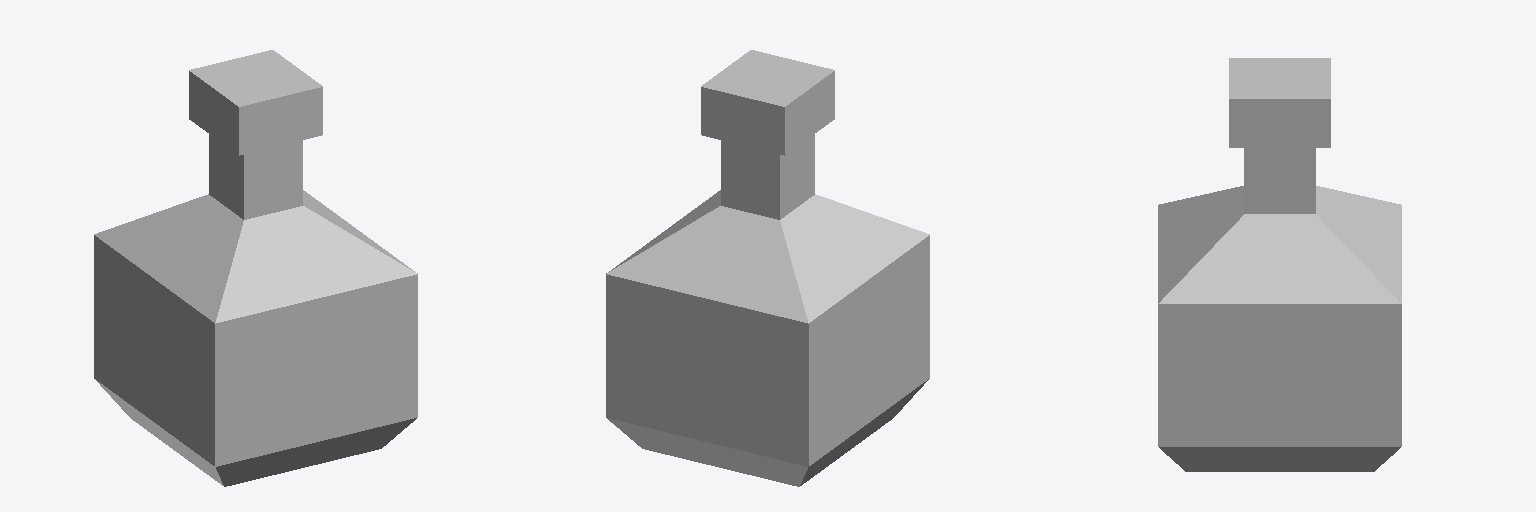
Rendered from bottle.obj.
3 views of the same model, side by side, from view 1: azimuth 30°, elevation 25°; view 2: azimuth 150°, elevation 25°; view 3: azimuth 270°, elevation 25° (orthographic).
Visible parts, largest first — view 1: Cube; view 2: Cube; view 3: Cube.
Boxes of the visible parts, x1=… form: Cube: x1=94, y1=50, x2=417, y2=486; Cube: x1=606, y1=50, x2=929, y2=486; Cube: x1=1158, y1=58, x2=1401, y2=471.
Bounding box in the file's own units: 0.2067 × 0.3455 × 0.2146.